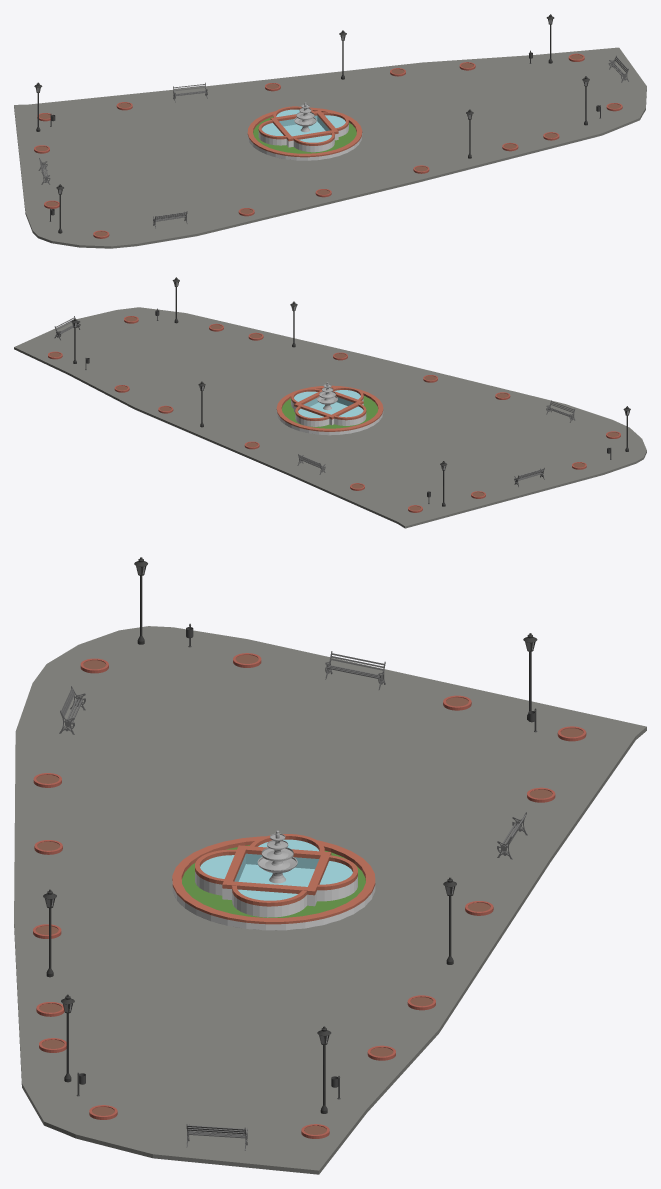
Rendered from Plaza_Veracruz_Fix.fbx.
3 views of the same model, one above another, from view 1: azimuth 30°, elevation 25°; view 2: azimuth 150°, elevation 25°; view 3: azimuth 270°, elevation 25° (orthographic). The views are drawn at different scales.
Parts seen in each view (by area): view 1: Suelo, Cube.002; view 2: Suelo, Cube.002; view 3: Suelo, Cube.002.
Part boxes in pixels (x1,y1,x2,y2): Suelo: [14, 47, 646, 248]; Cube.002: [247, 102, 362, 160]; Suelo: [14, 307, 646, 528]; Cube.002: [276, 382, 383, 435]; Suelo: [14, 626, 646, 1174]; Cube.002: [172, 830, 375, 930].
Bounding box in the file's own units: 6192 × 478 × 3042.
